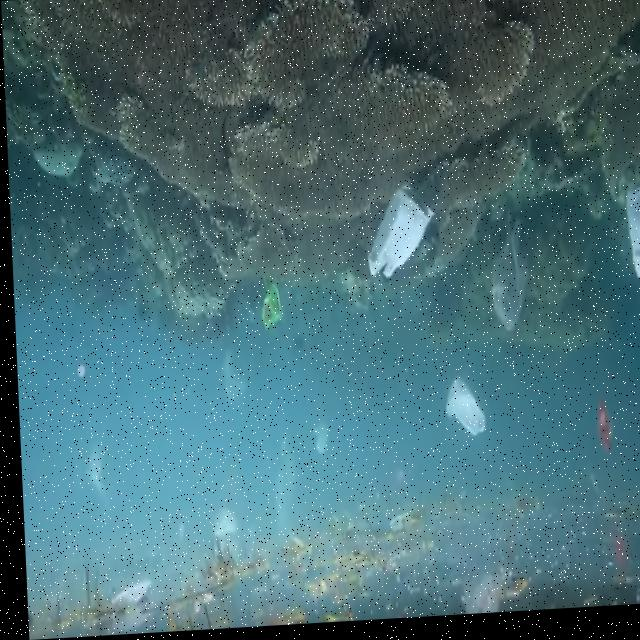plasticcover: (369, 191, 427, 283)
